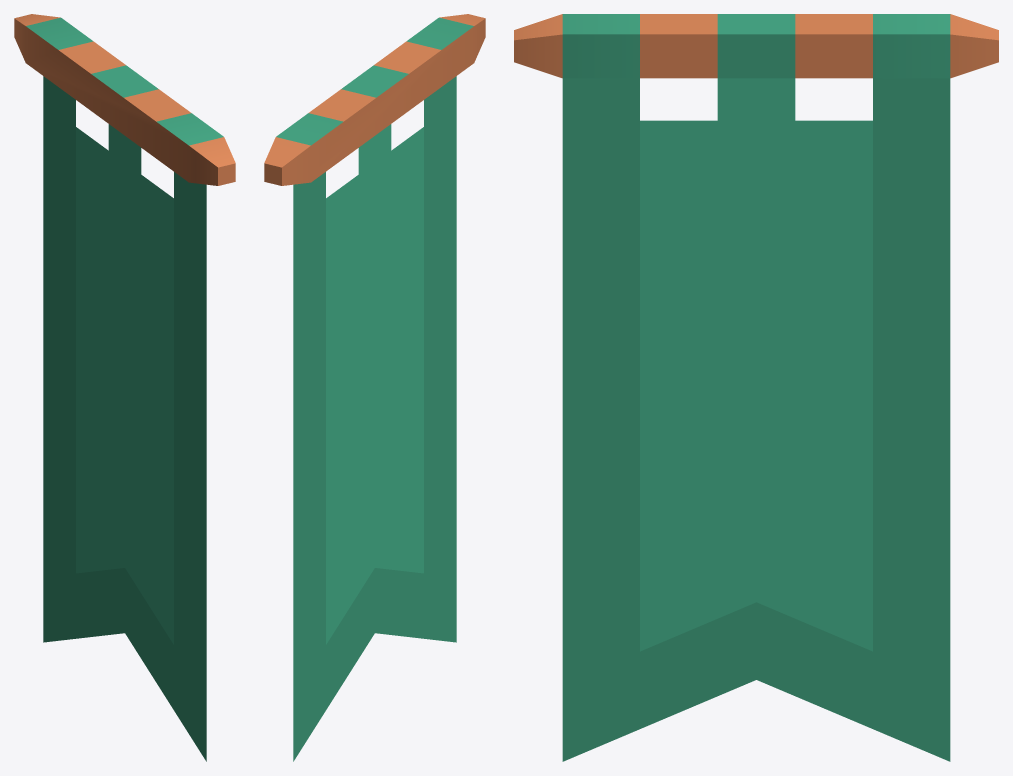
The model's file is d_kenney_oriflamme_verte.glb.
3 renders of one model, left to right at view 1: azimuth 30°, elevation 25°; view 2: azimuth 150°, elevation 25°; view 3: azimuth 270°, elevation 25°, orthographic. The views are drawn at different scales.
Visible parts, largest first — view 1: d_kenney_oriflamme_verte; view 2: d_kenney_oriflamme_verte; view 3: d_kenney_oriflamme_verte.
Boxes of the visible parts, x1=… form: d_kenney_oriflamme_verte: x1=14, y1=14, x2=235, y2=761; d_kenney_oriflamme_verte: x1=264, y1=14, x2=485, y2=761; d_kenney_oriflamme_verte: x1=514, y1=14, x2=998, y2=761.
Size of the model in its own units: 0.05 by 0.8394 by 0.5.
1 material, 1 textured.
